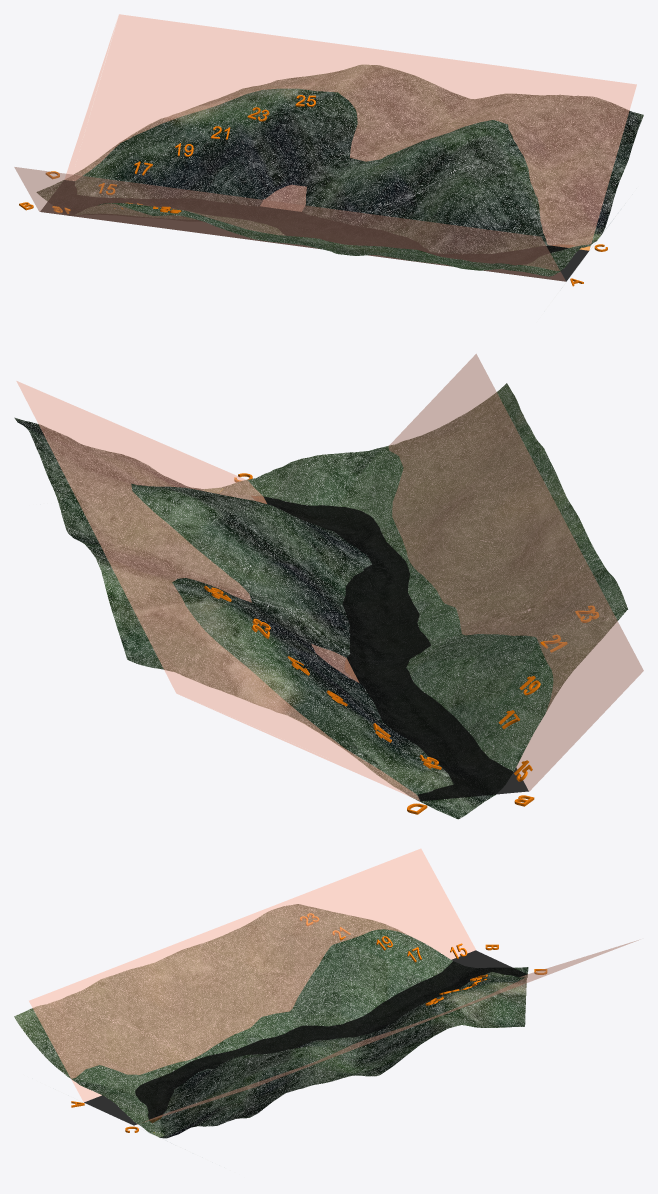
The model's file is curva15.dae.
3 views of the same model, one above another, from view 1: azimuth 30°, elevation 25°; view 2: azimuth 150°, elevation 25°; view 3: azimuth 270°, elevation 25° (orthographic). The views are drawn at different scales.
Parts seen in each view (by area): view 1: SketchUp (×5); view 2: SketchUp (×4); view 3: SketchUp (×4).
Part boxes in pixels (bbox=[...]): SketchUp (×5): bbox=[14, 14, 643, 281]; SketchUp (×4): bbox=[14, 354, 643, 819]; SketchUp (×4): bbox=[14, 848, 638, 1138].
Size of the model in its own units: 70379 by 73534 by 12612.
9 materials, 1 textured.
